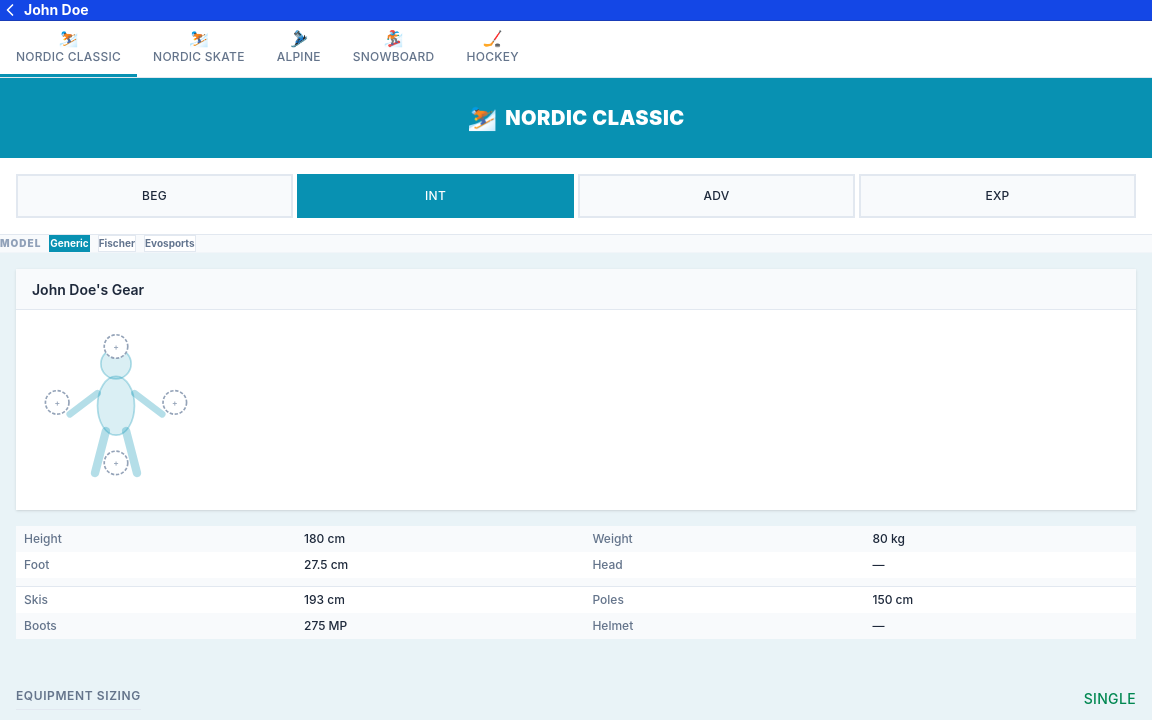
Test case: SportSizing › tab switching › switches to Hockey tab when clicked
Click the button "🏒 Hockey": [493, 49] box left=450, top=21, right=535, bottom=77
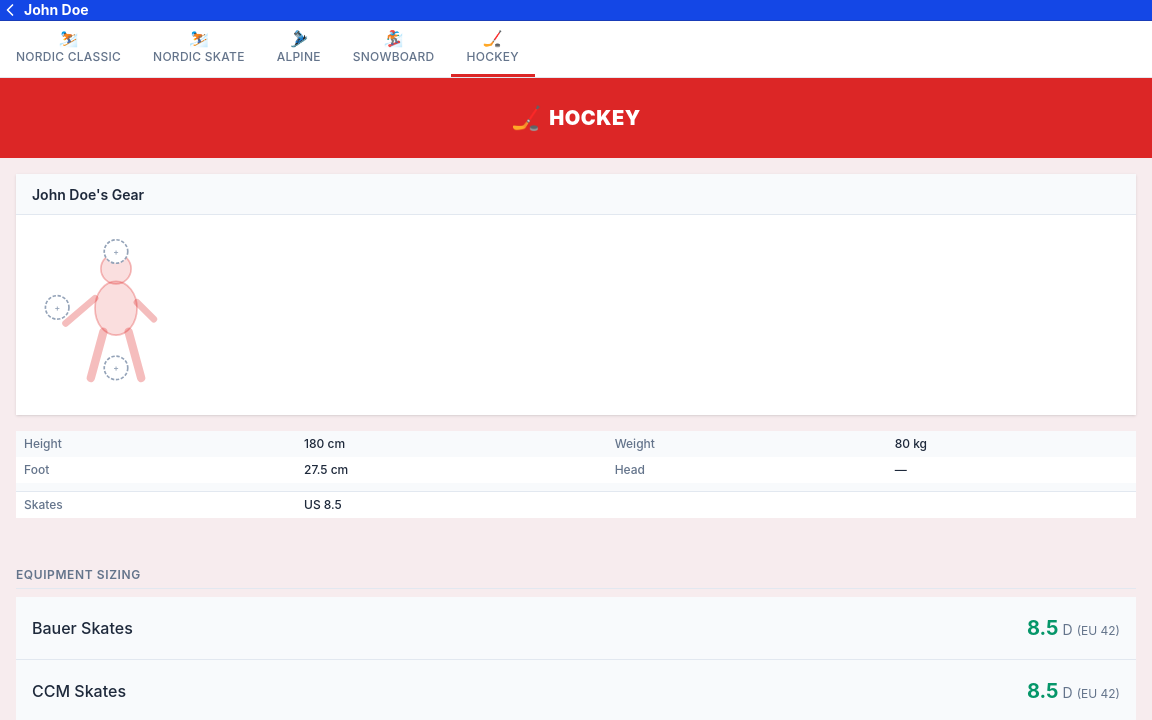
Check: the text "Bauer Skates" is shown, box left=32, top=616, right=133, bottom=640
Check: the text "CCM Skates" is shown, box left=32, top=679, right=126, bottom=703
